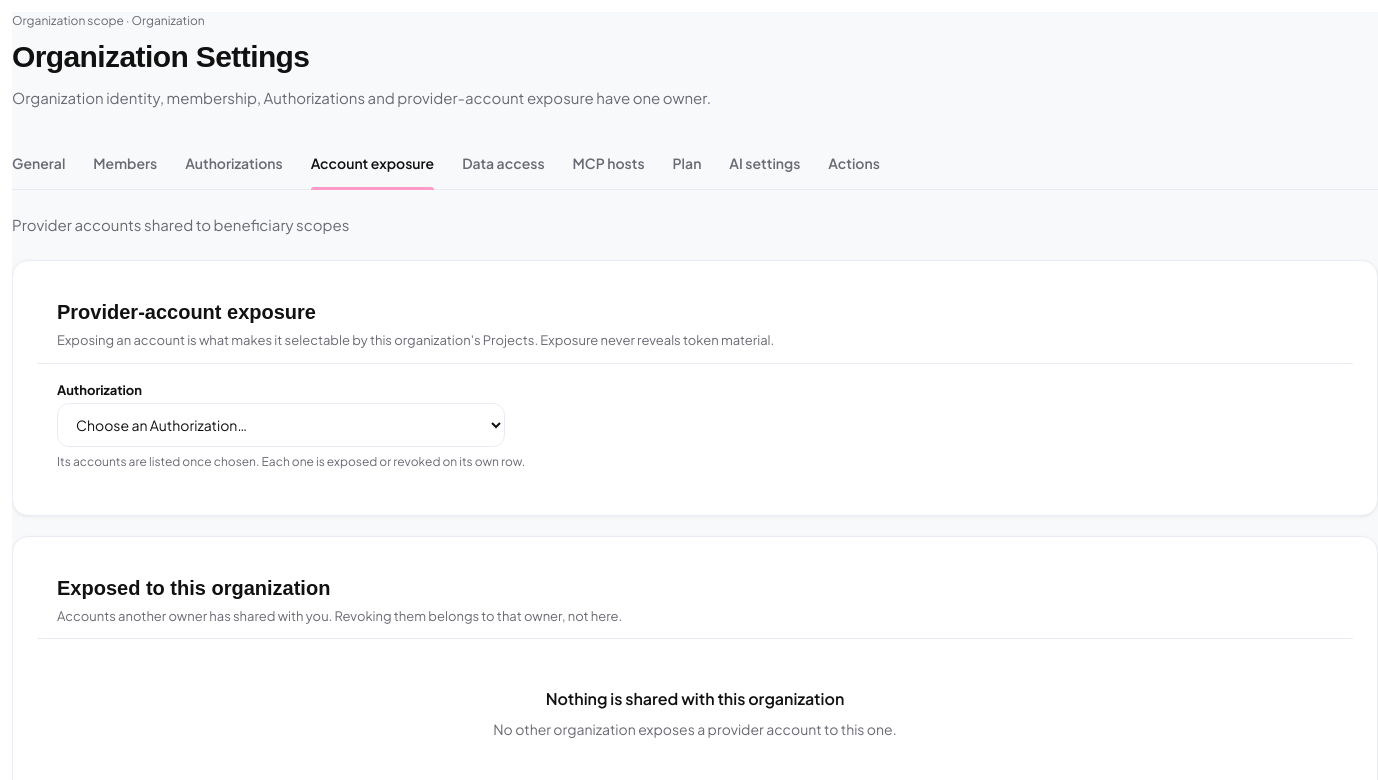
Test case: Account exposure › reads the accounts of the SECOND connection chosen, not the first
Select "A" in the dropdown with test id "exposure-credential" at (281, 424), box [57,402,505,446]
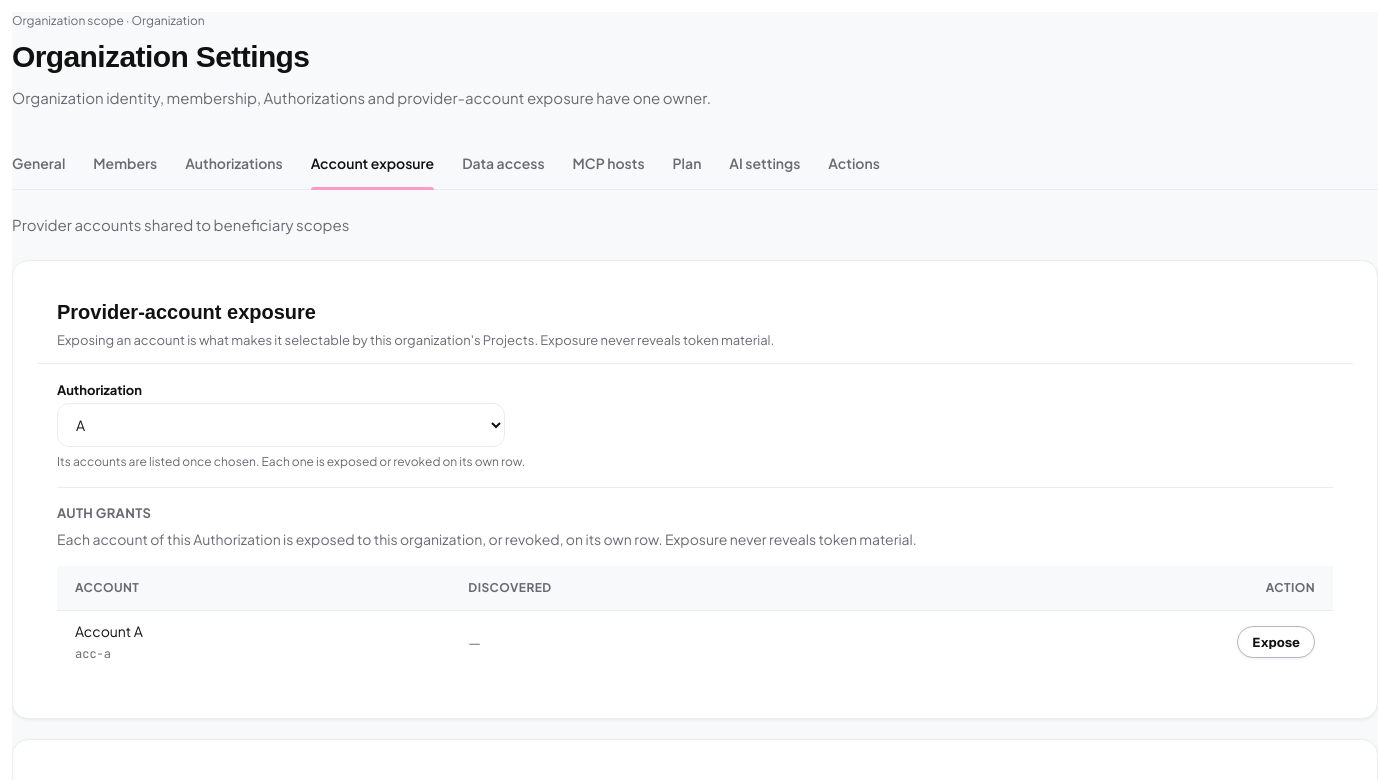
Result: the text "Account A" is shown at [75,622,143,640]
Select "B" in the dropdown with test id "exposure-credential" at (281, 424), box [57,402,505,446]
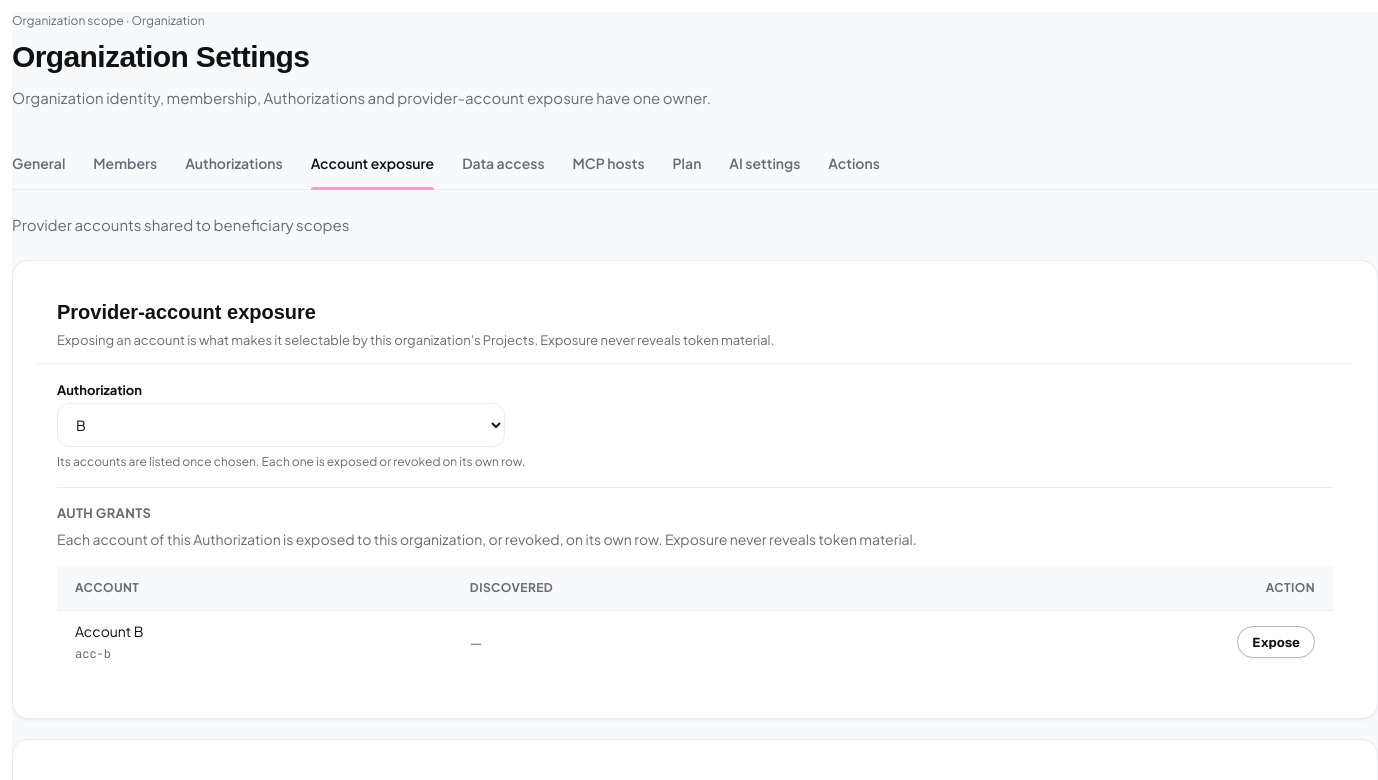
Result: the text "Account B" is shown at [75,622,143,640]
Result: the text "Account A" is gone
